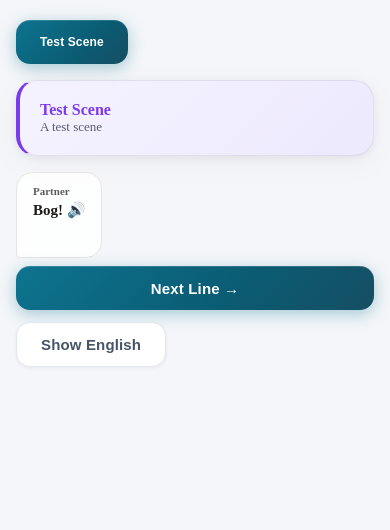
RoleplayScreen — interactive scripted role-play › shows the partner's opening line and advances to the learner's turn
Expected: the button "Bog! 🔊" is shown, [33,202,86,218]
Click the button "Next Line →" at (195,288), box [16,266,374,310]
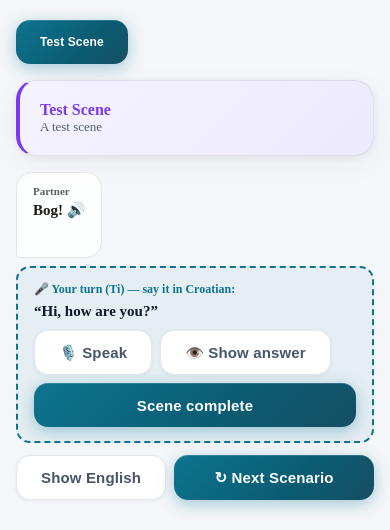
Expected: the element with test id "roleplay-your-turn" is shown, [16,266,374,443]
